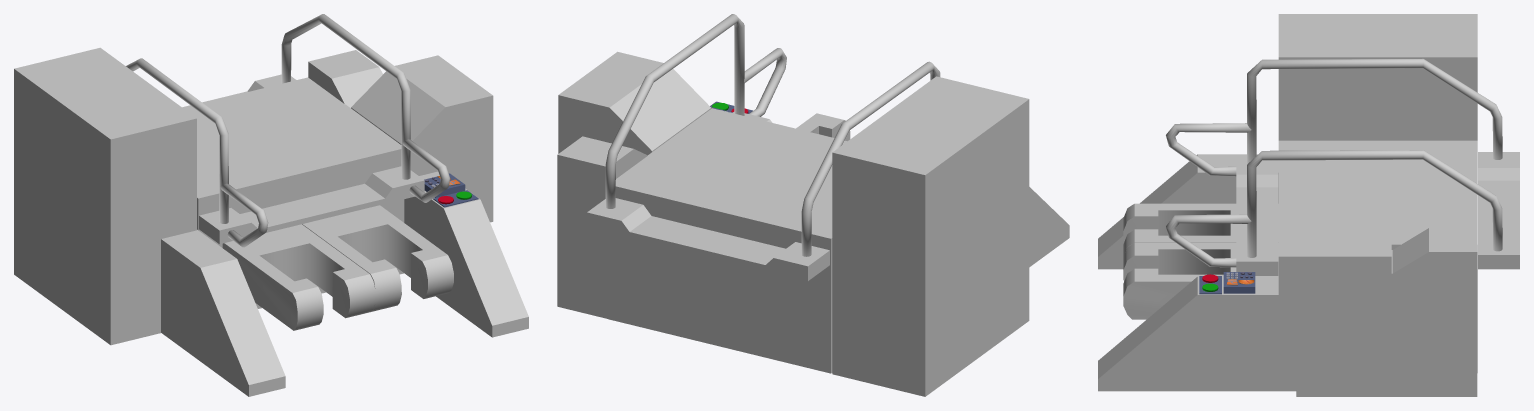
Rendered from UnitHolder.FBX.
3 renders of one model, left to right at view 1: azimuth 30°, elevation 25°; view 2: azimuth 150°, elevation 25°; view 3: azimuth 270°, elevation 25°, orthographic. The views are drawn at different scales.
Visible parts, largest first — view 1: UnitHolder; view 2: UnitHolder; view 3: UnitHolder.
Part boxes in pixels (x1,y1,x2,y2): UnitHolder: [14, 14, 528, 396]; UnitHolder: [557, 14, 1069, 396]; UnitHolder: [1098, 14, 1519, 396].
Size of the model in its own units: 173 by 91.18 by 161.
